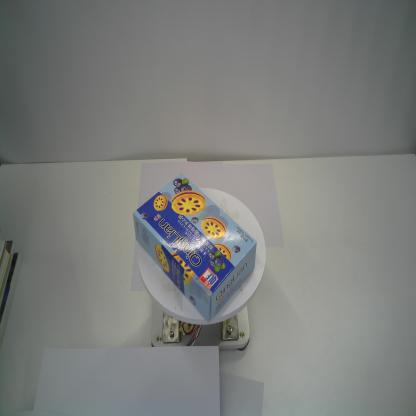Dessert: (133, 172, 257, 324)
